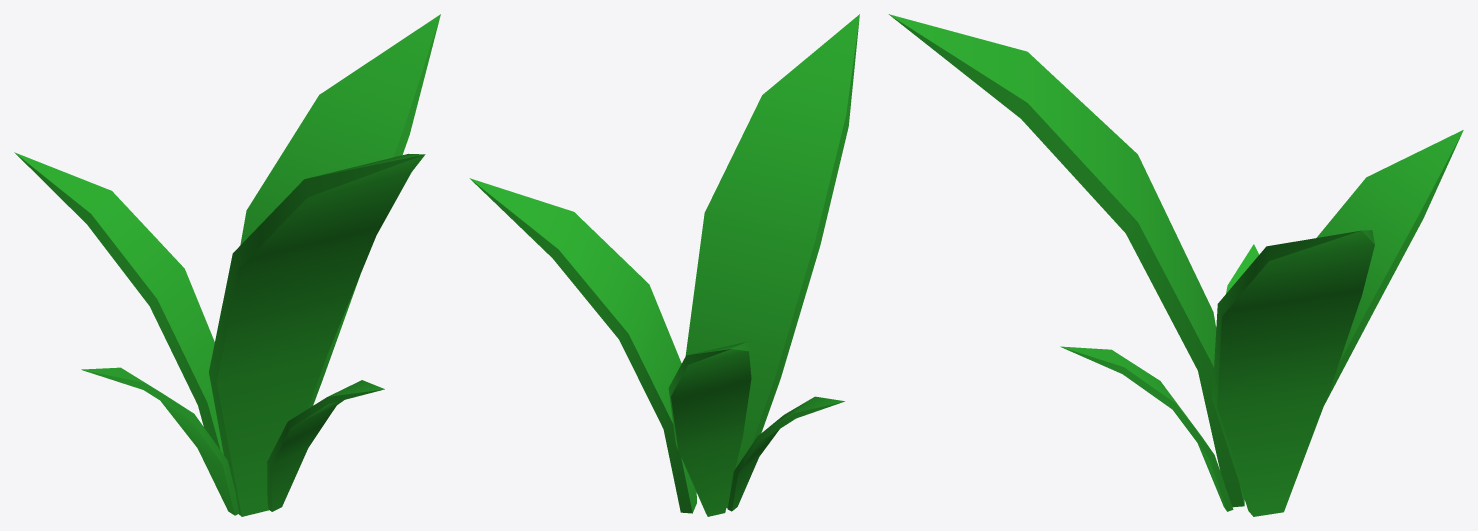
3 renders of one model, left to right at view 1: azimuth 30°, elevation 25°; view 2: azimuth 150°, elevation 25°; view 3: azimuth 270°, elevation 25°, orthographic. The views are drawn at different scales.
Visible parts, largest first — view 1: Box1923; view 2: Box1923; view 3: Box1923.
Part boxes in pixels (x1,y1,x2,y2): Box1923: (14,14,440,516); Box1923: (469,14,859,516); Box1923: (888,14,1463,516).
Bounding box in the file's own units: 0.91 × 1.02 × 1.09.
